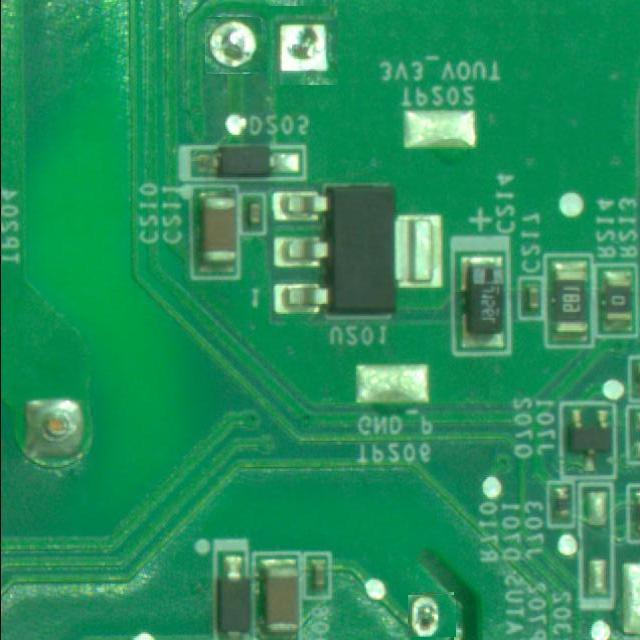lack_of_part: (268, 6, 340, 85), (205, 18, 260, 73), (410, 593, 455, 639)
